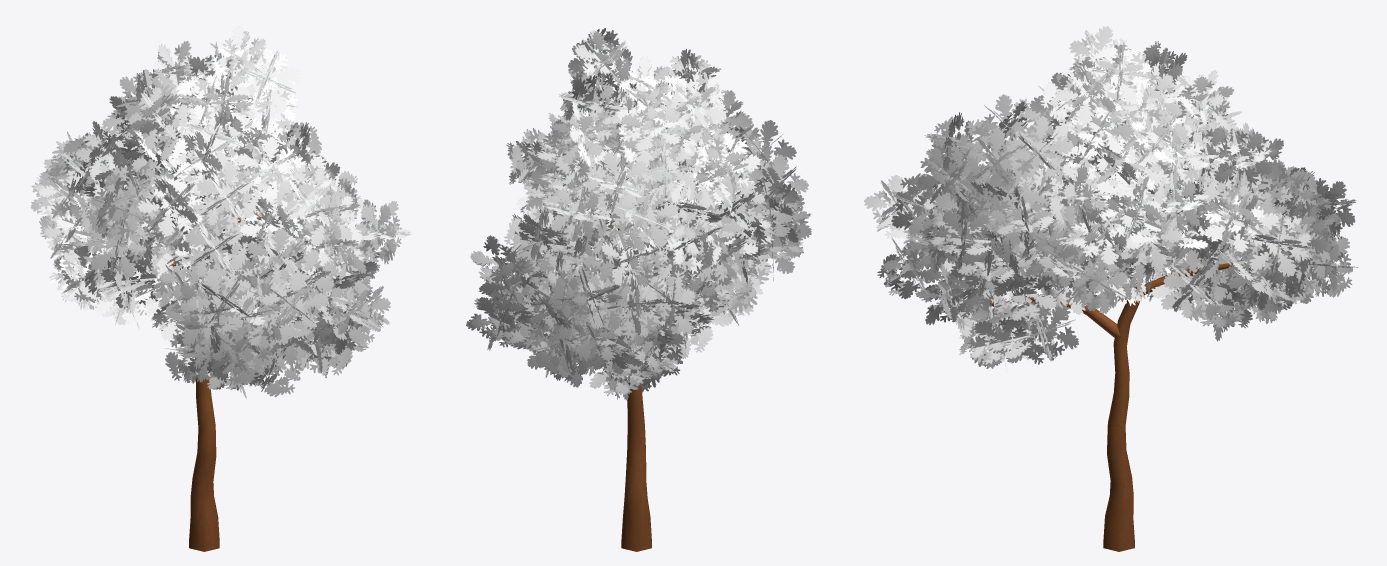
File: STOak4.glb
3 renders of one model, left to right at view 1: azimuth 30°, elevation 25°; view 2: azimuth 150°, elevation 25°; view 3: azimuth 270°, elevation 25°, orthographic. The views are drawn at different scales.
Visible parts, largest first — view 1: Leaf.068; view 2: Leaf.068; view 3: Leaf.068.
Boxes of the visible parts, bbox=[...] form: Leaf.068: bbox=[30, 25, 411, 551]; Leaf.068: bbox=[466, 28, 811, 551]; Leaf.068: bbox=[864, 26, 1358, 551].
Bounding box in the file's own units: 12.14 × 22.47 × 20.
Materials: 2 (2 with a texture image).
